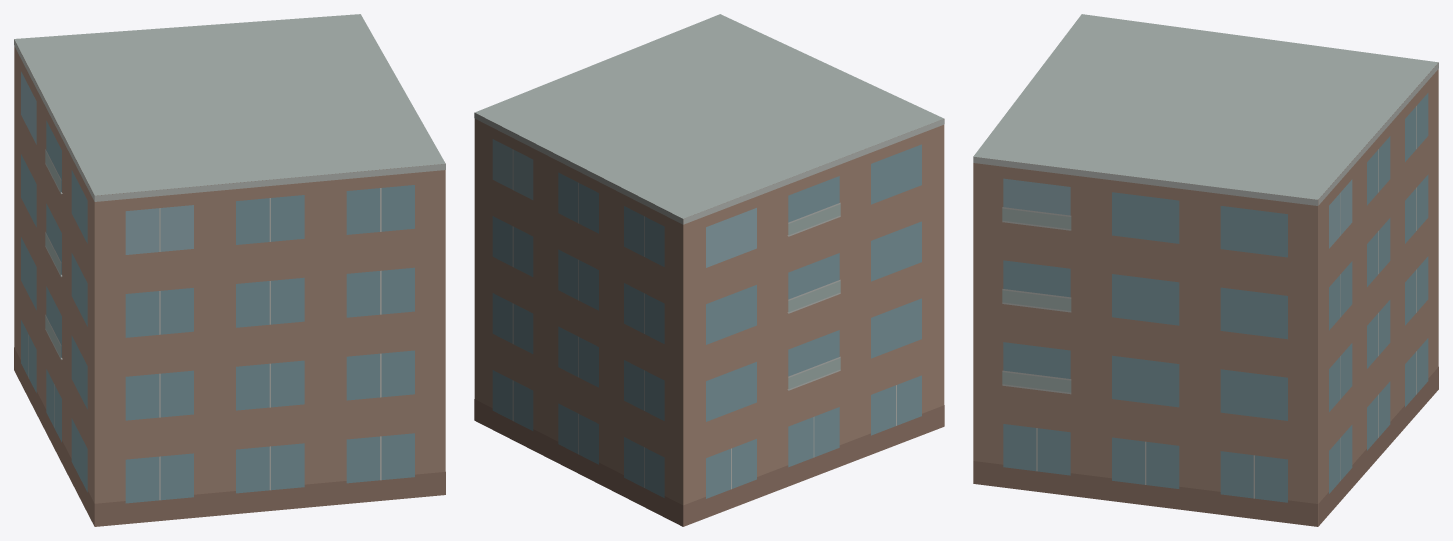
The model's file is survey-upis-32810069.glb.
3 views of the same model, side by side, from view 1: azimuth 30°, elevation 25°; view 2: azimuth 150°, elevation 25°; view 3: azimuth 270°, elevation 25° (orthographic). The views are drawn at different scales.
Parts seen in each view (by area): view 1: survey-upis-32810069.tmp; view 2: survey-upis-32810069.tmp; view 3: survey-upis-32810069.tmp.
Part boxes in pixels (bbox=[...]): survey-upis-32810069.tmp: bbox=[14, 14, 445, 526]; survey-upis-32810069.tmp: bbox=[474, 14, 944, 526]; survey-upis-32810069.tmp: bbox=[973, 14, 1438, 526].
Bounding box in the file's own units: 15.61 × 12.8 × 16.53.
